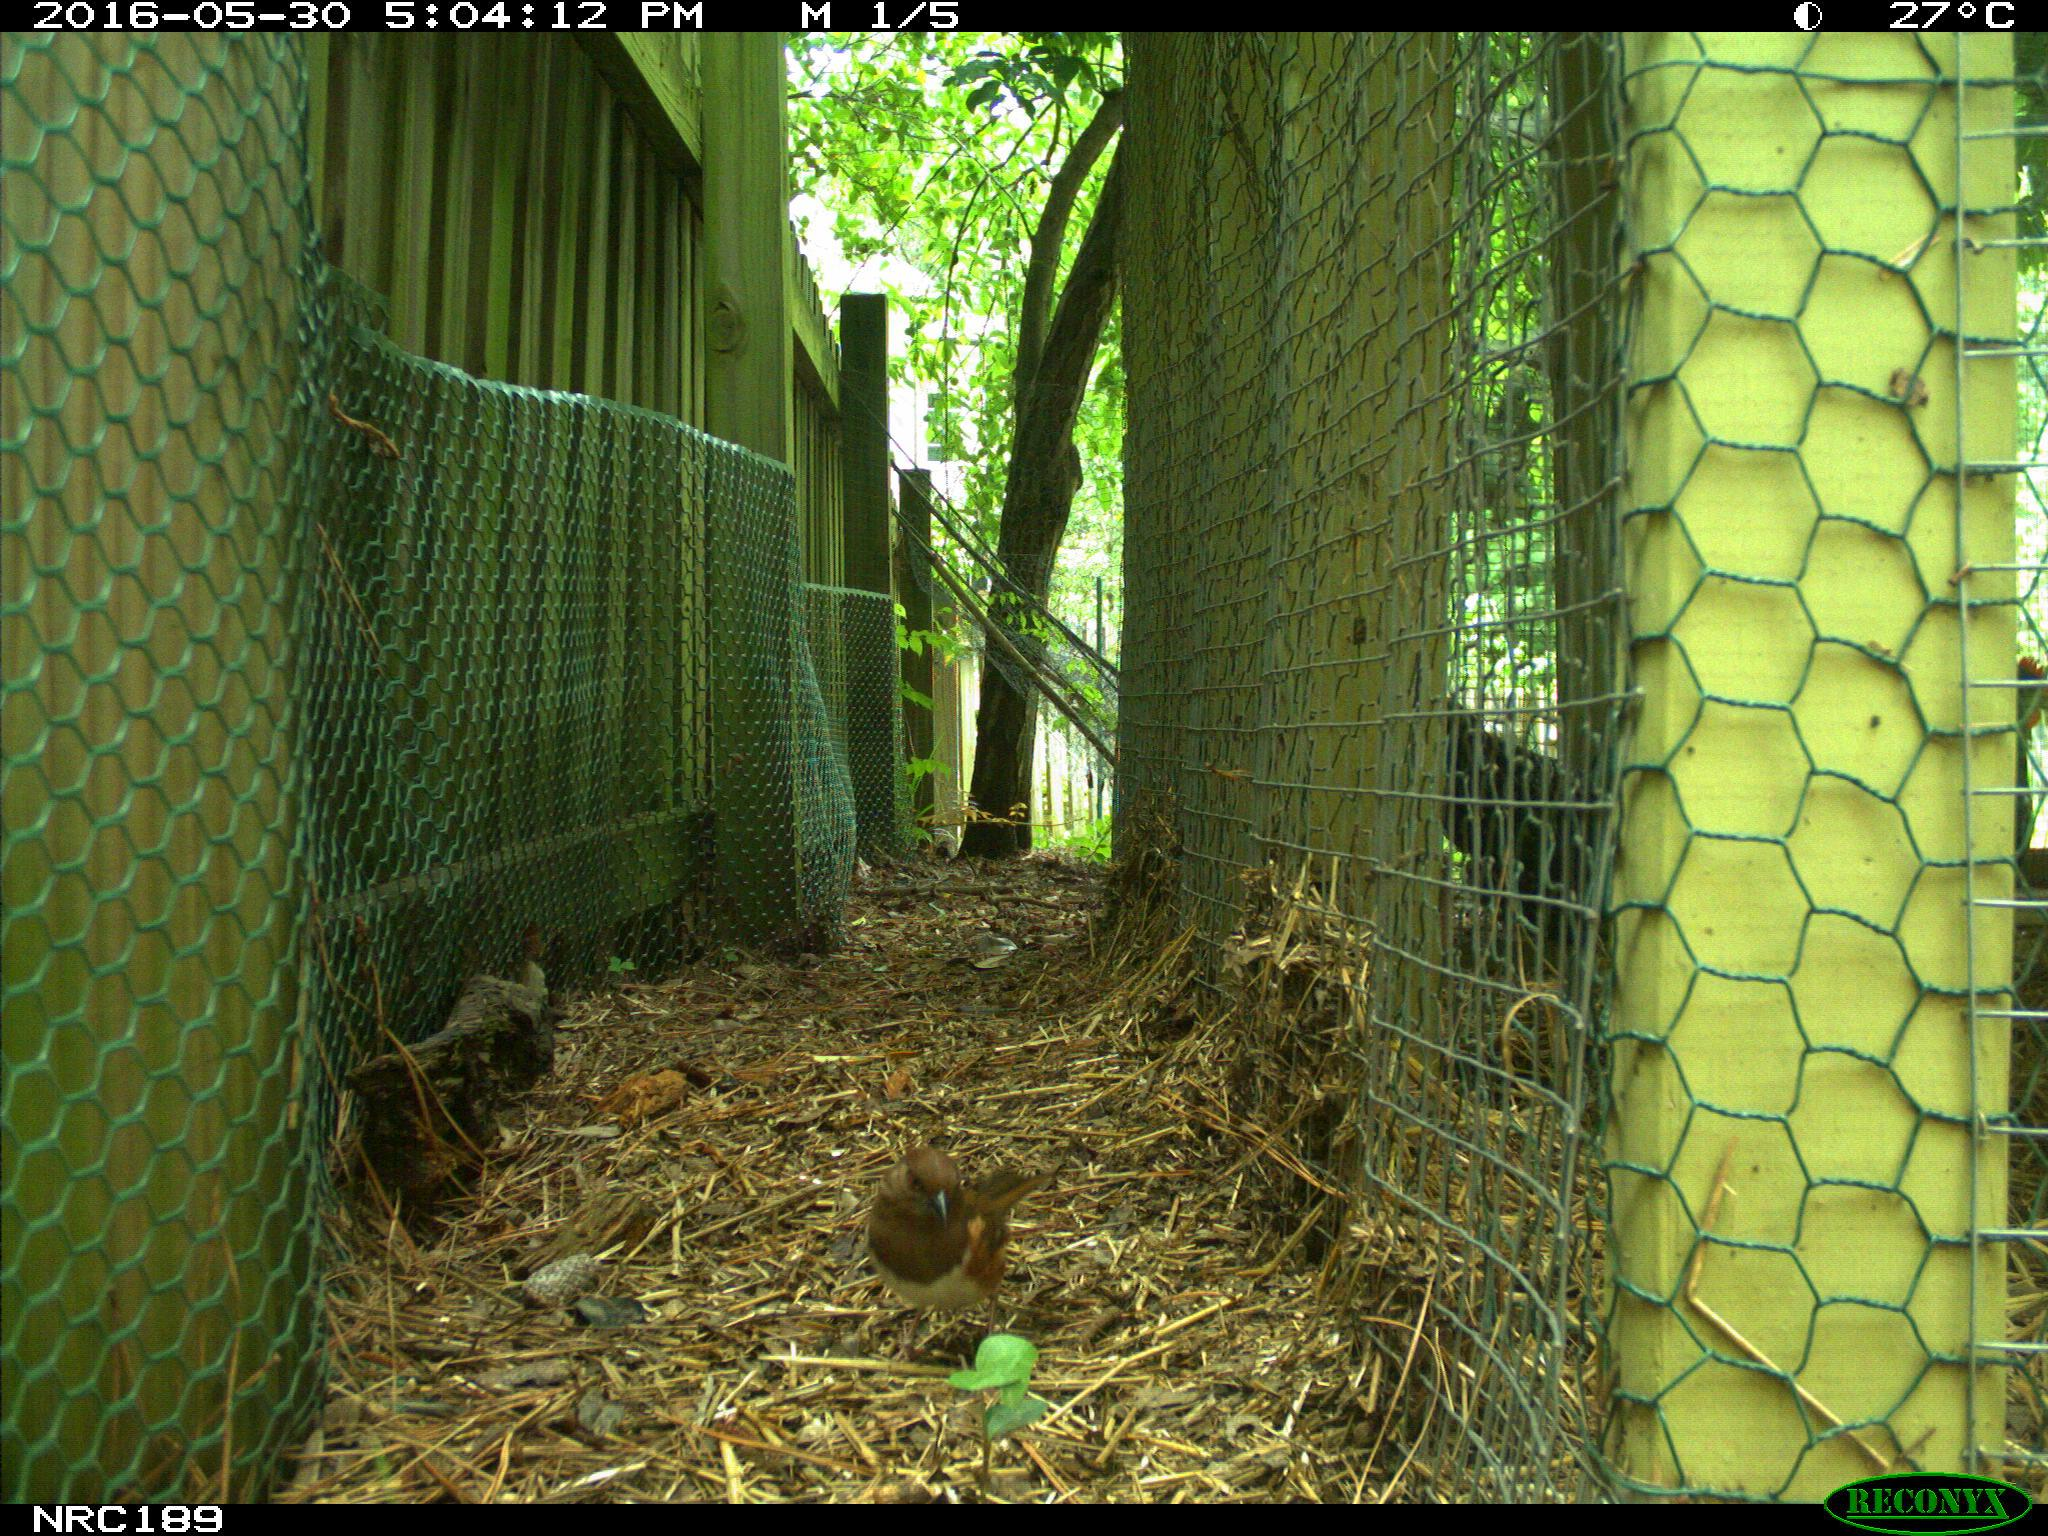Animal: (866, 1146, 1039, 1360)
